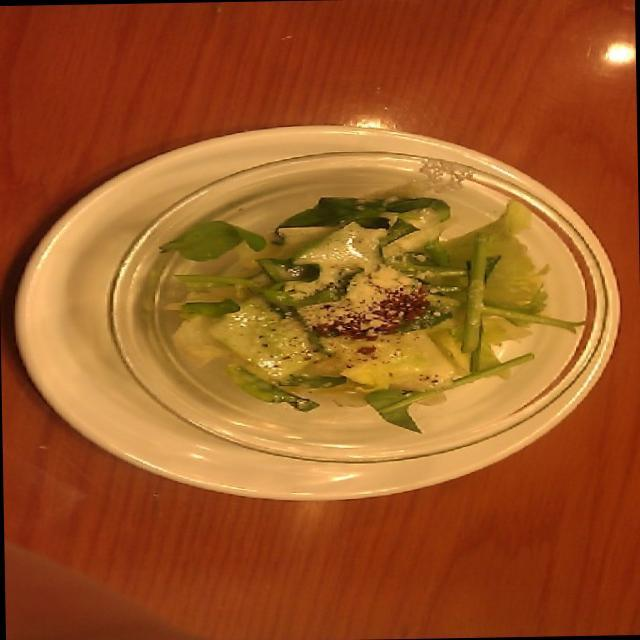Green Salad: (180, 184, 548, 430)
